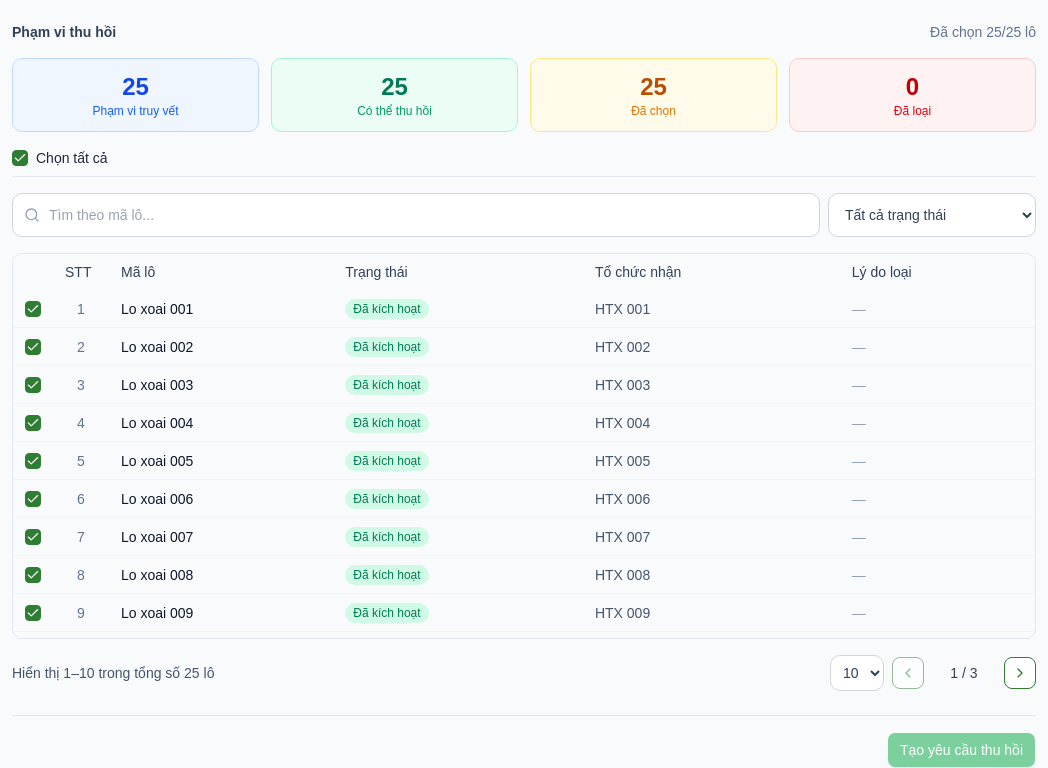
it: BulkRecallRequestForm - bang Pham vi thu hoi › doi page size reset ve trang 1 va hien thi dung range
(page scrolled)
Step 1. Click the button named "Trang sau" → (1020,673), box [1004,657,1036,689]
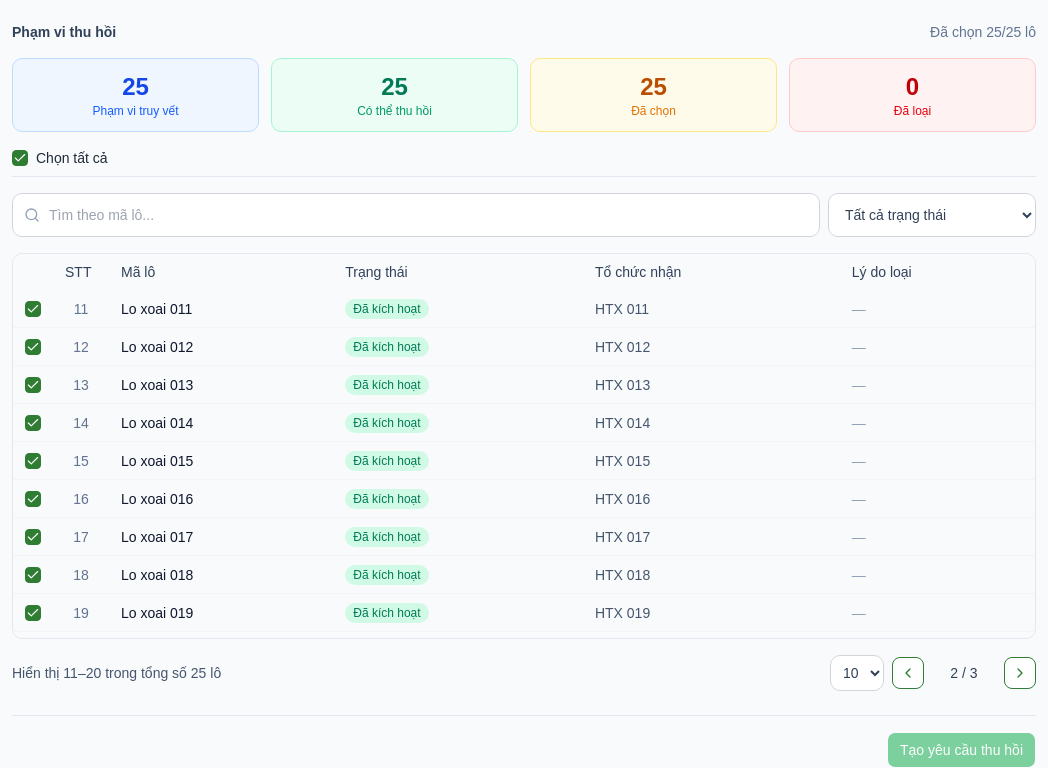
Now the text "Hiển thị 11–20 trong tổng số 25 lô" is shown, box [12,663,221,683]
Step 2. Select "20" in the dropdown named "Số dòng mỗi trang" → (857,673), box [830,655,884,691]
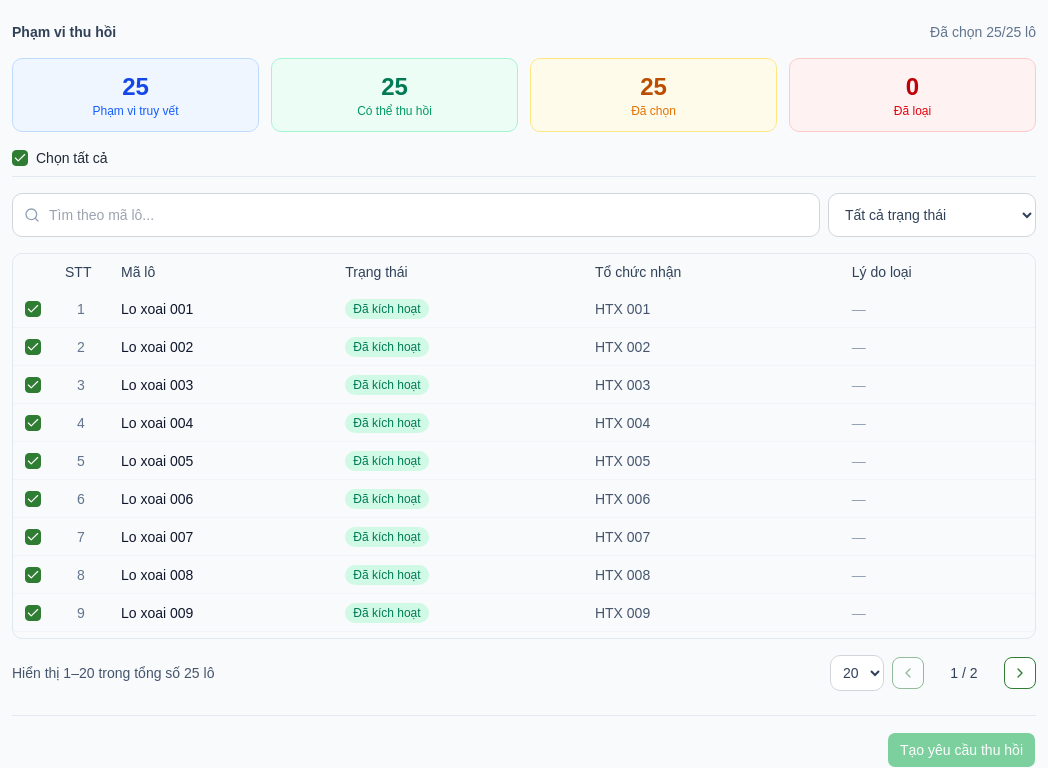
Now the text "Hiển thị 1–20 trong tổng số 25 lô" is shown, box [12,663,214,683]
